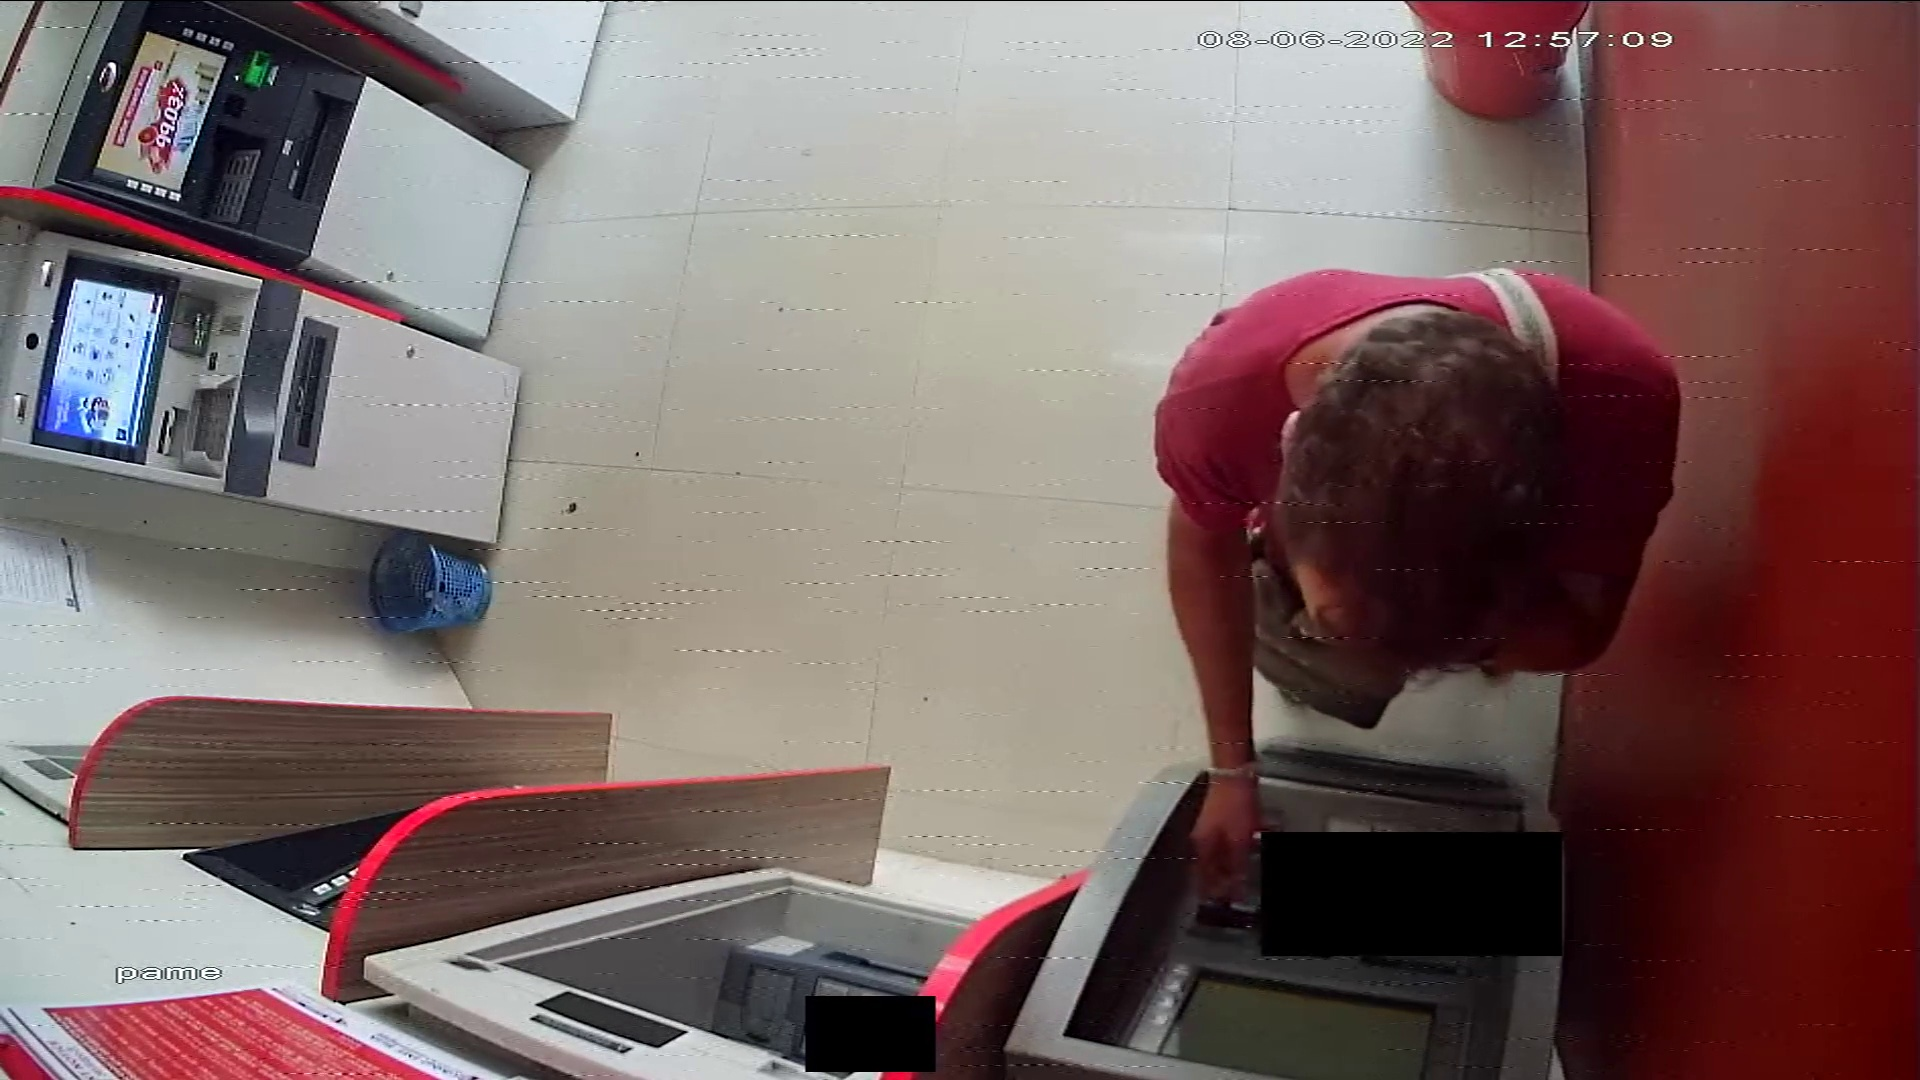person: (1148, 263, 1684, 885)
